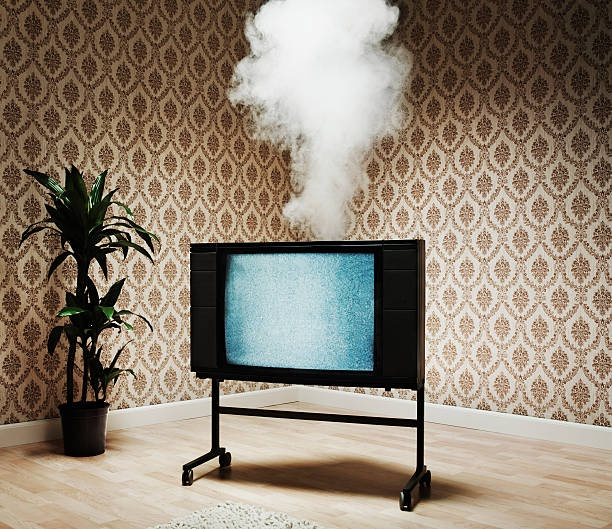smoke: (234, 1, 412, 238)
